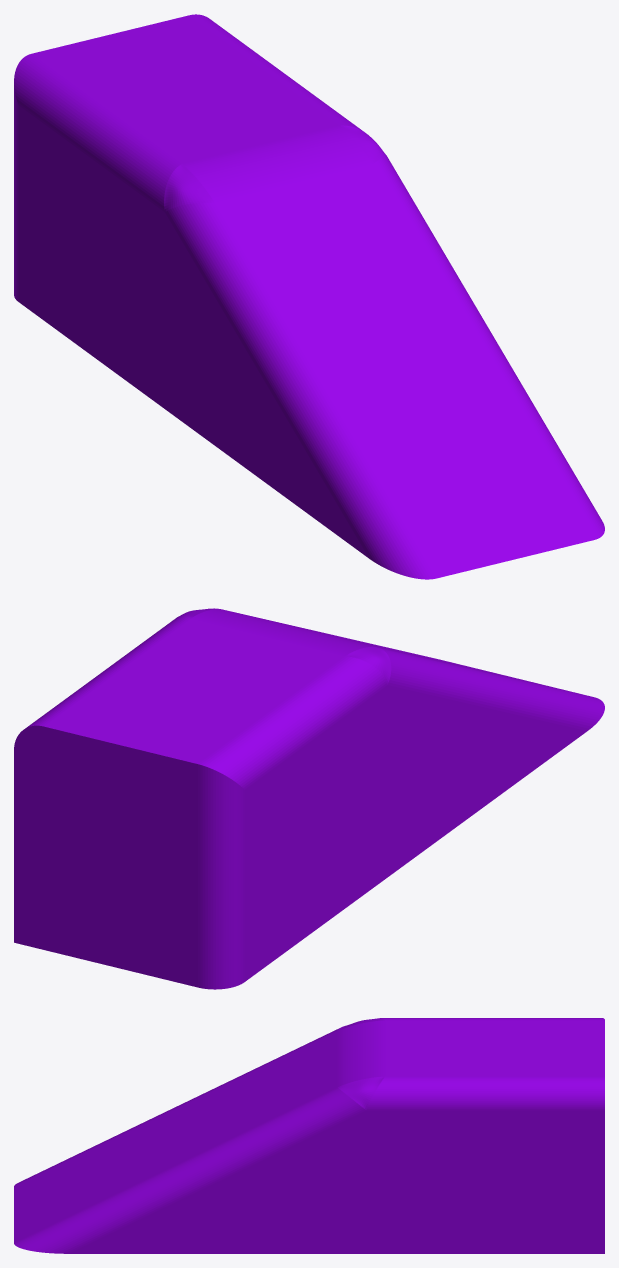
File: ramp_1.gltf
3 views of the same model, one above another, from view 1: azimuth 30°, elevation 25°; view 2: azimuth 150°, elevation 25°; view 3: azimuth 270°, elevation 25° (orthographic). The views are drawn at different scales.
Visible parts, largest first — view 1: Cube; view 2: Cube; view 3: Cube.
Part boxes in pixels (x1,y1,x2,y2): Cube: (14,14,604,579); Cube: (14,608,604,989); Cube: (14,1018,604,1253).
Size of the model in its own units: 2 by 2 by 6.44.
